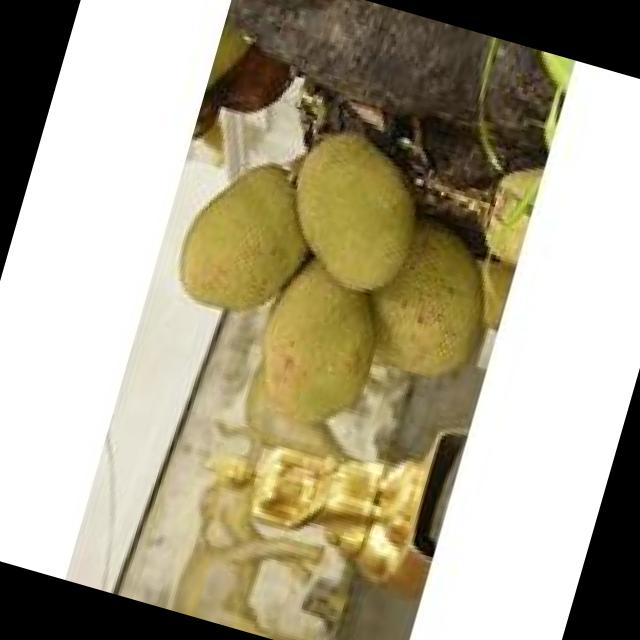Fruit: (226, 95, 459, 352), (148, 120, 347, 344)
